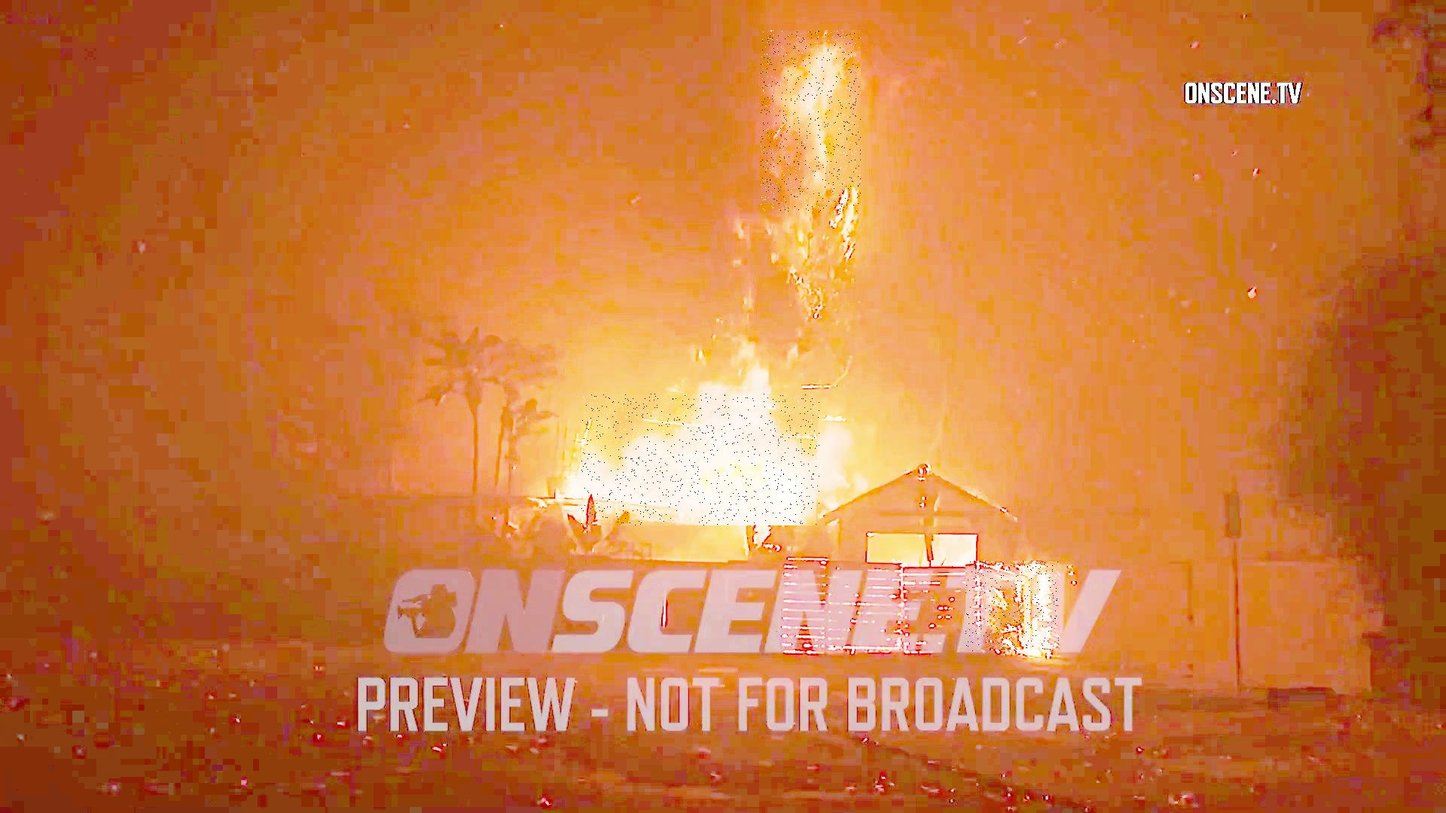fire: (582, 394, 820, 526), (761, 31, 861, 213), (966, 561, 1060, 652)
